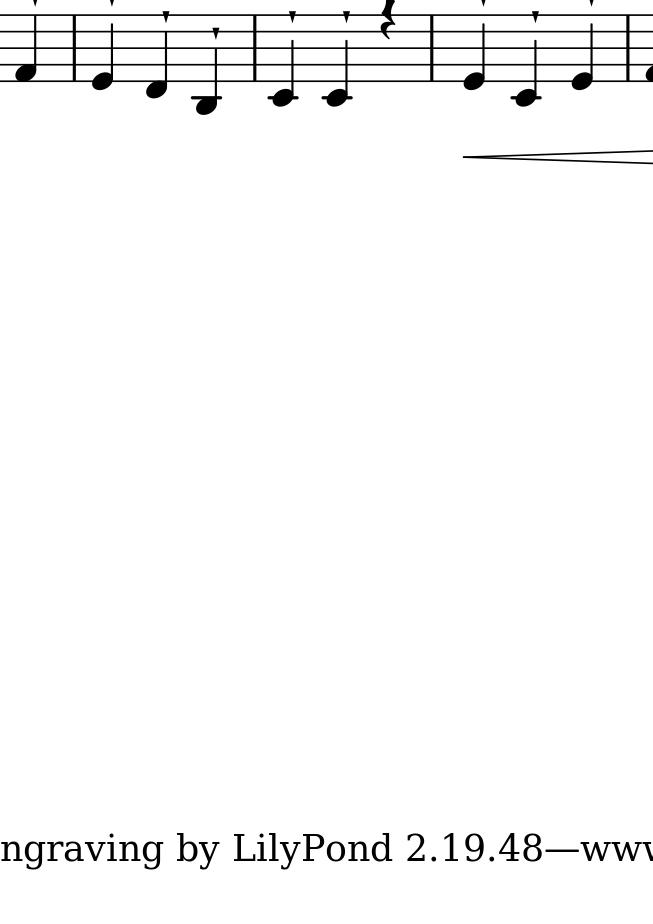4_-1: (142, 10, 170, 100)
4_-2: (267, 11, 299, 108), (511, 12, 541, 111), (322, 12, 352, 108)
4_-3: (191, 12, 221, 118)
4_0: (459, 13, 487, 92), (569, 12, 597, 90), (90, 14, 116, 92)
4_1: (11, 14, 40, 83)
Single_barline: (620, 15, 636, 80), (67, 15, 82, 81), (424, 15, 438, 80), (248, 15, 261, 81)
Staccatissimo: (287, 7, 297, 23), (161, 8, 171, 23), (212, 26, 222, 41), (342, 9, 352, 24), (531, 9, 540, 23)
